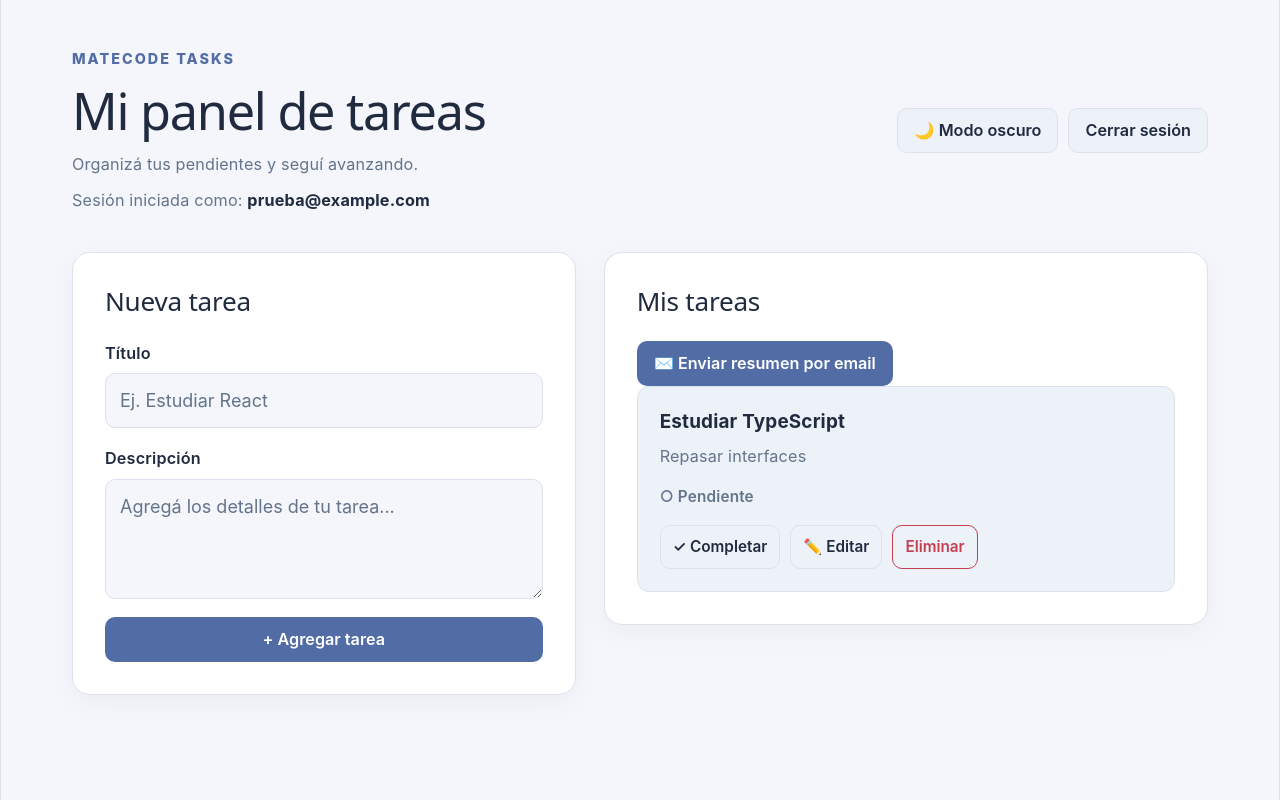
Test case: Dashboard › permite eliminar una tarea después de confirmar
Check: the heading "Estudiar TypeScript" is shown, box [660,410,845,433]
Click the button "Eliminar" at point(935, 547), box [892,525,978,569]
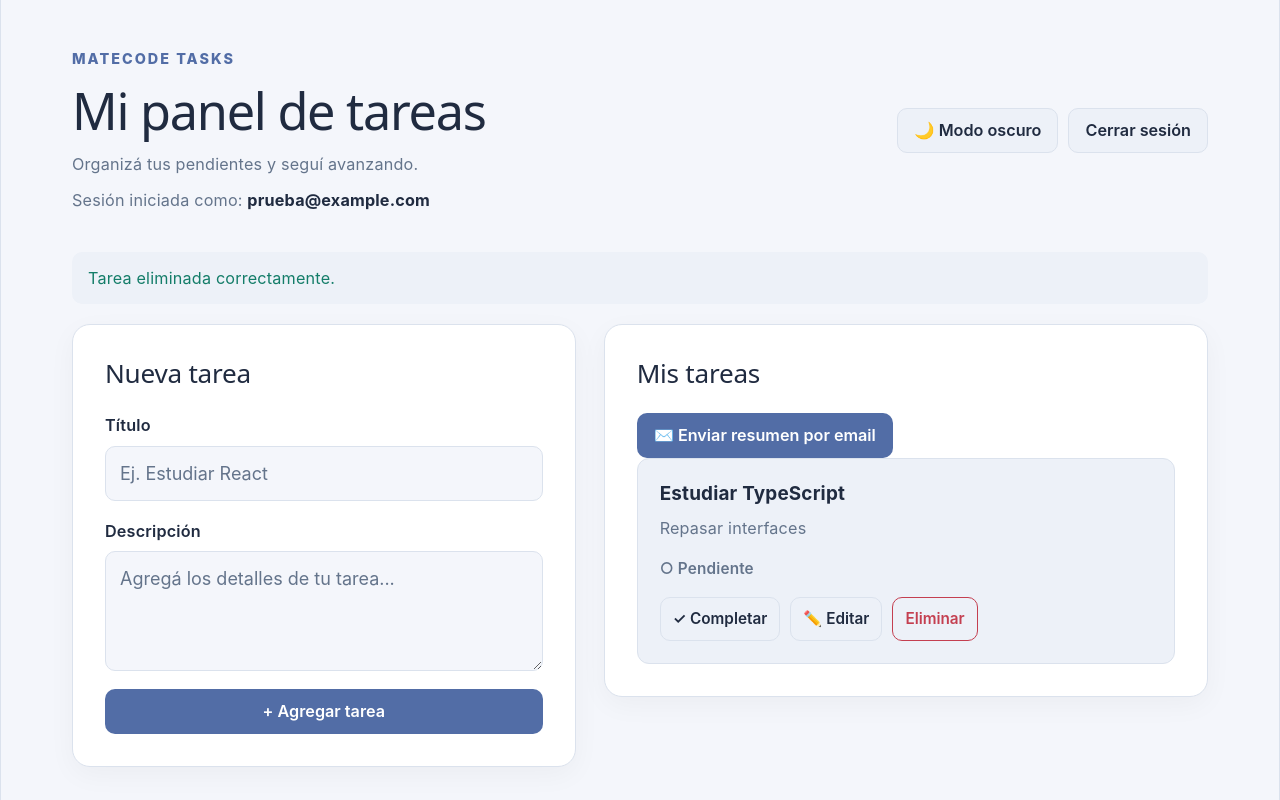
Check: the text "Tarea eliminada correctamente." is shown, box [72,252,1208,304]
